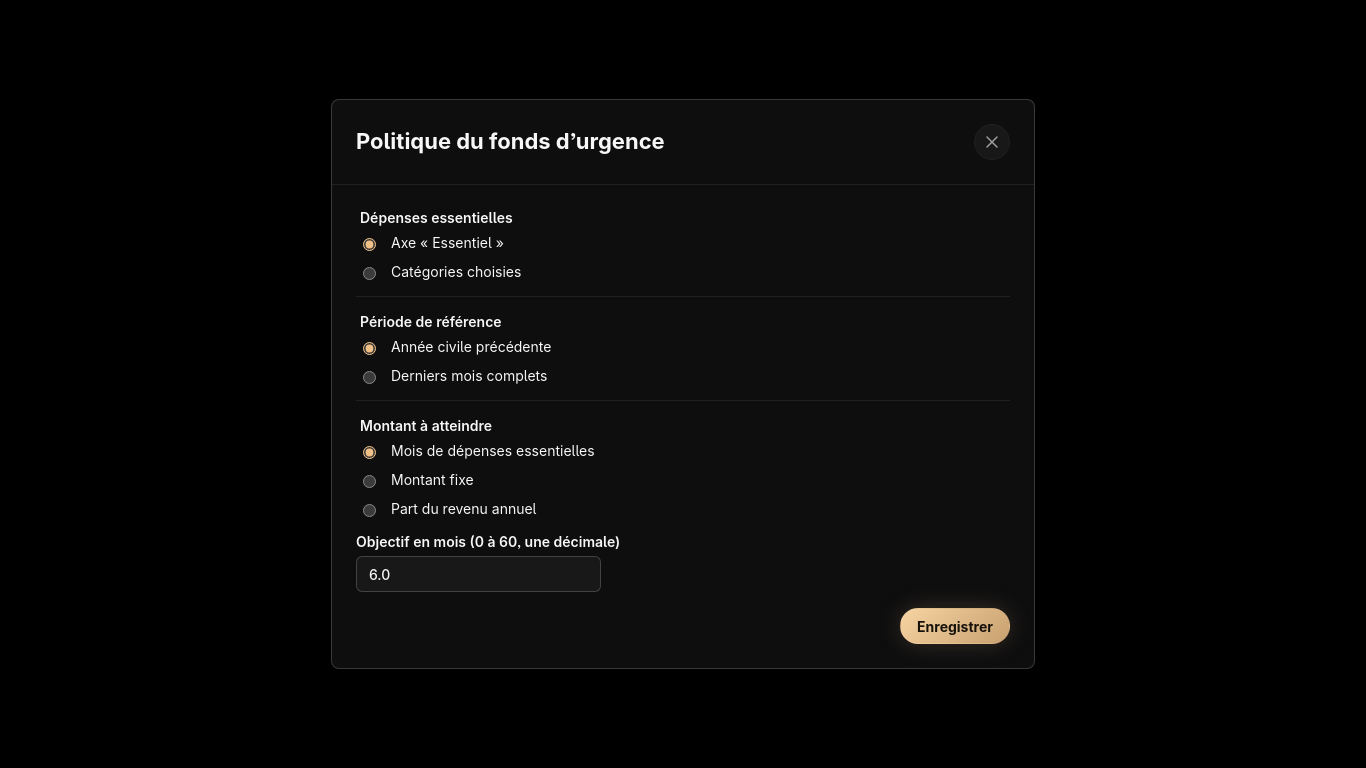
Test: EmergencyFundPolicyModal › bounds the trailing months from 1 to 24
Expected: the field labelled "Objectif en mois (0 à 60, une décimale)" is shown, [356,556,601,592]
Click the radio button labelled "Derniers mois complets".
click(370, 377)  # box [363,370,376,384]
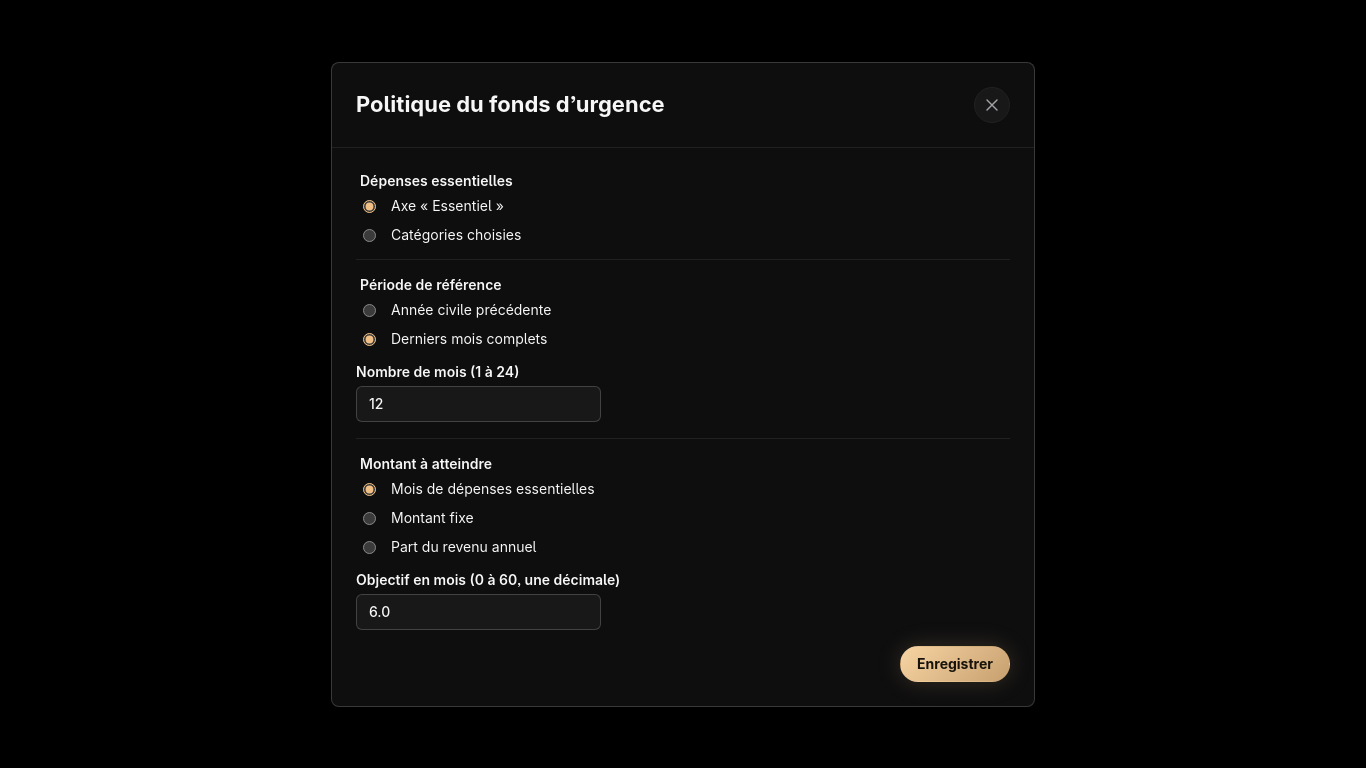
Replace the text in the field labelled "Nombre de mois (1 à 24)" with "25" at (478, 404), box [356,386,601,422]
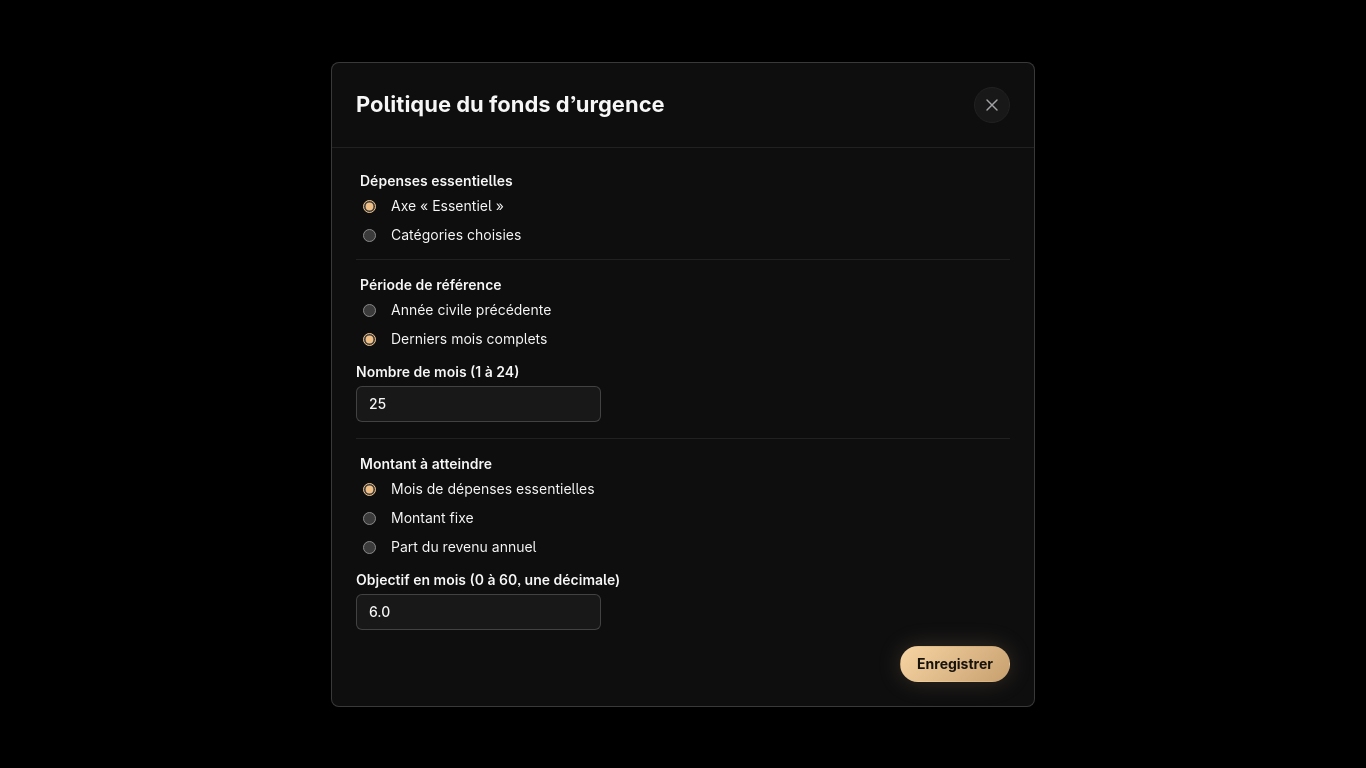
Click the button "Enregistrer".
click(955, 664)  # box [900,646,1010,682]
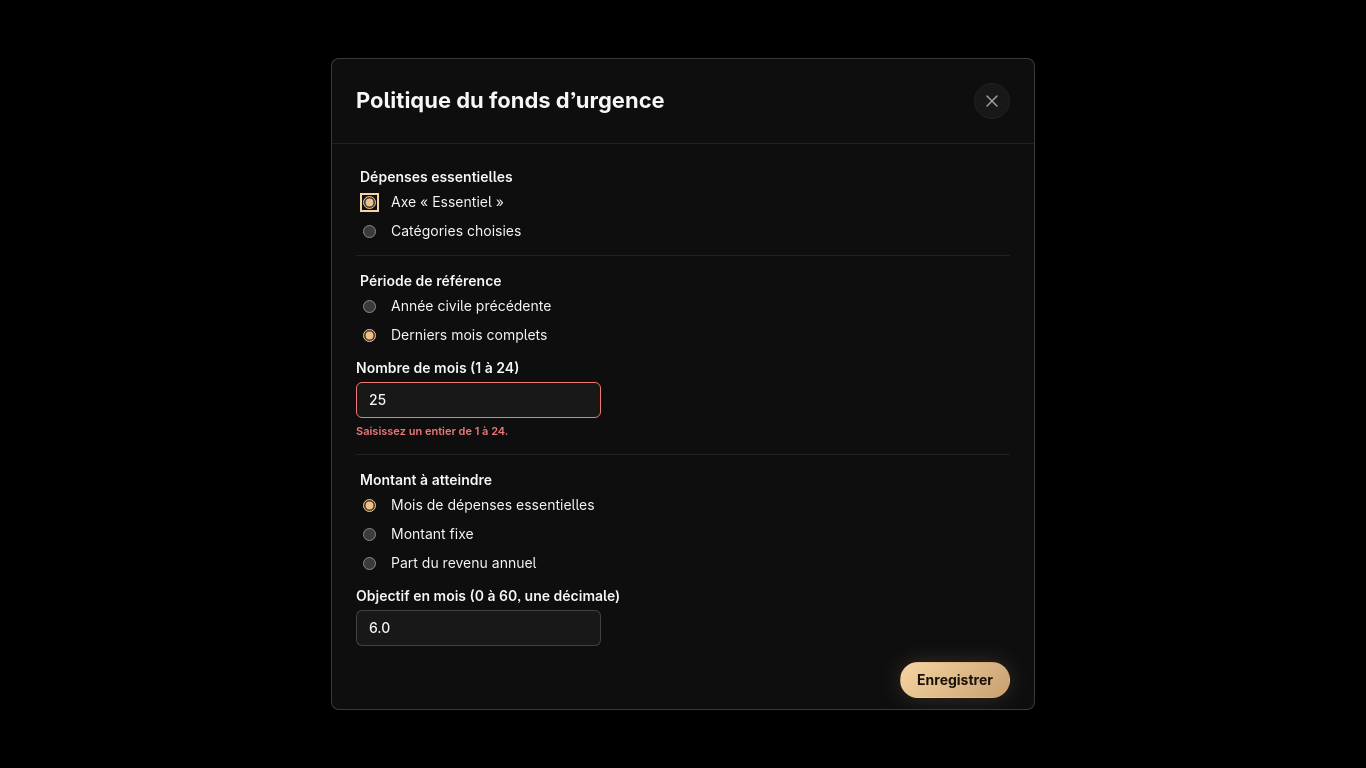
Expected: the text "Saisissez un entier de 1 à 24." is shown, [356,424,508,438]
